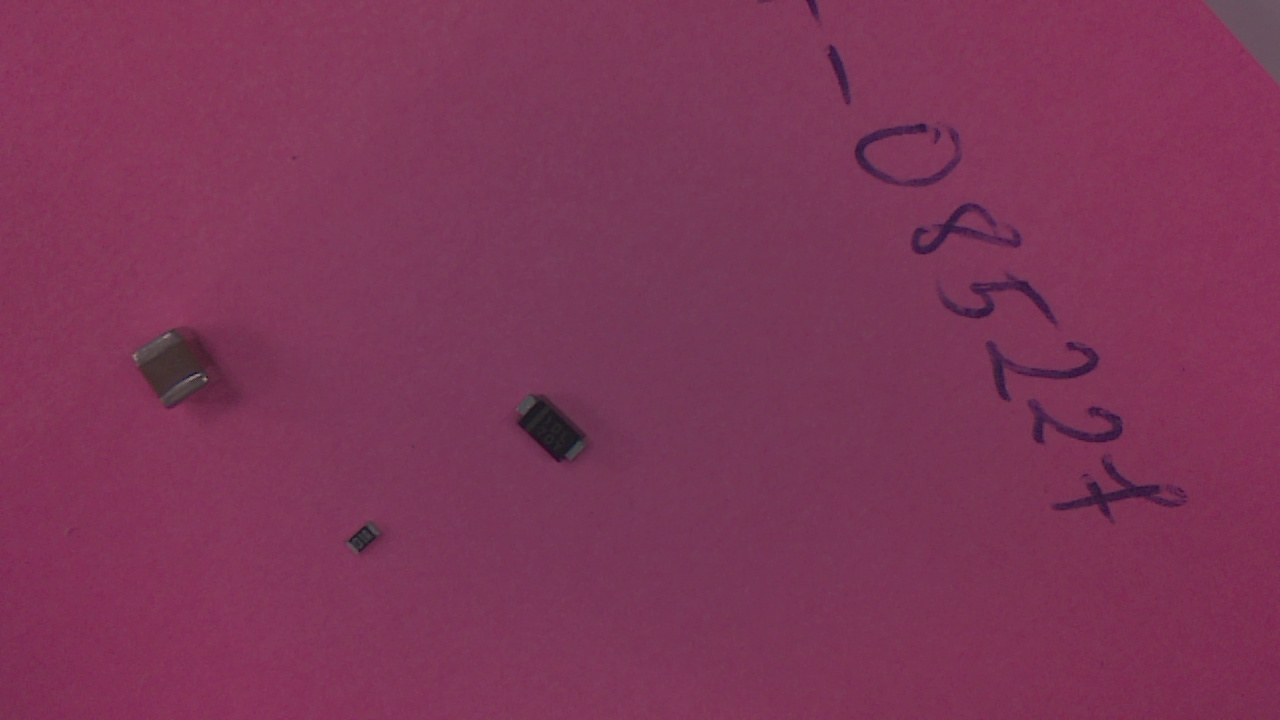Condensator: (139, 334, 221, 412)
Diode: (513, 399, 594, 474)
Resistor: (349, 524, 390, 562)
